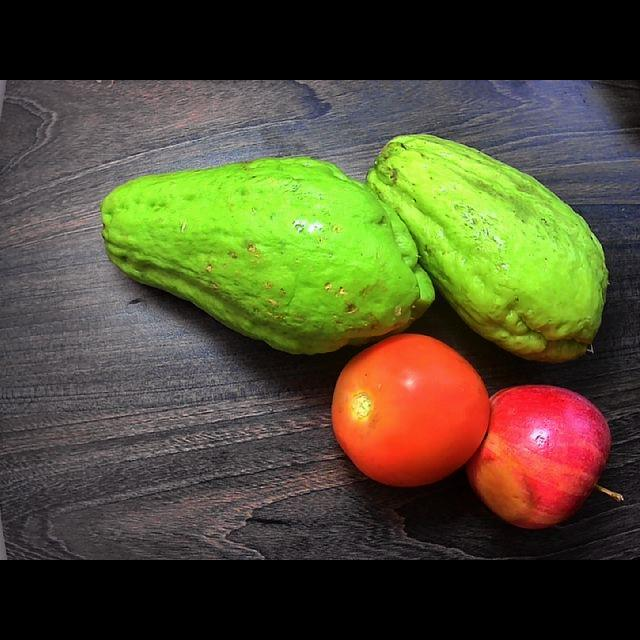chayote: (101, 157, 434, 352), (368, 135, 607, 362)
manzana: (466, 385, 623, 529)
tomate: (332, 334, 489, 486)
